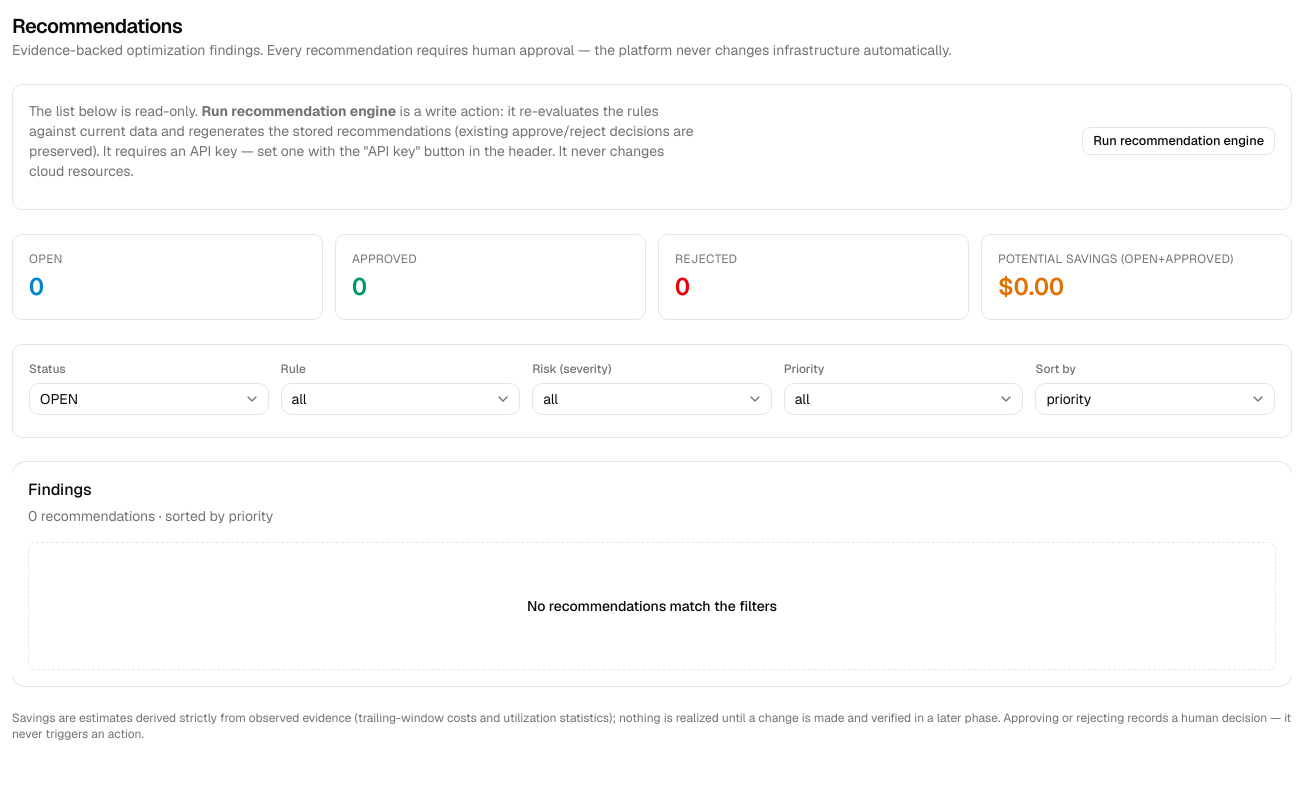
Test: Recommendations page › runs the engine once after the button is clicked and shows the result
Check: the text "No recommendations match the filters" is shown, box x1=527 y1=596 x2=777 y2=616
Click the button "Run recommendation engine" at (1179, 141), box x1=1082 y1=127 x2=1275 y2=155
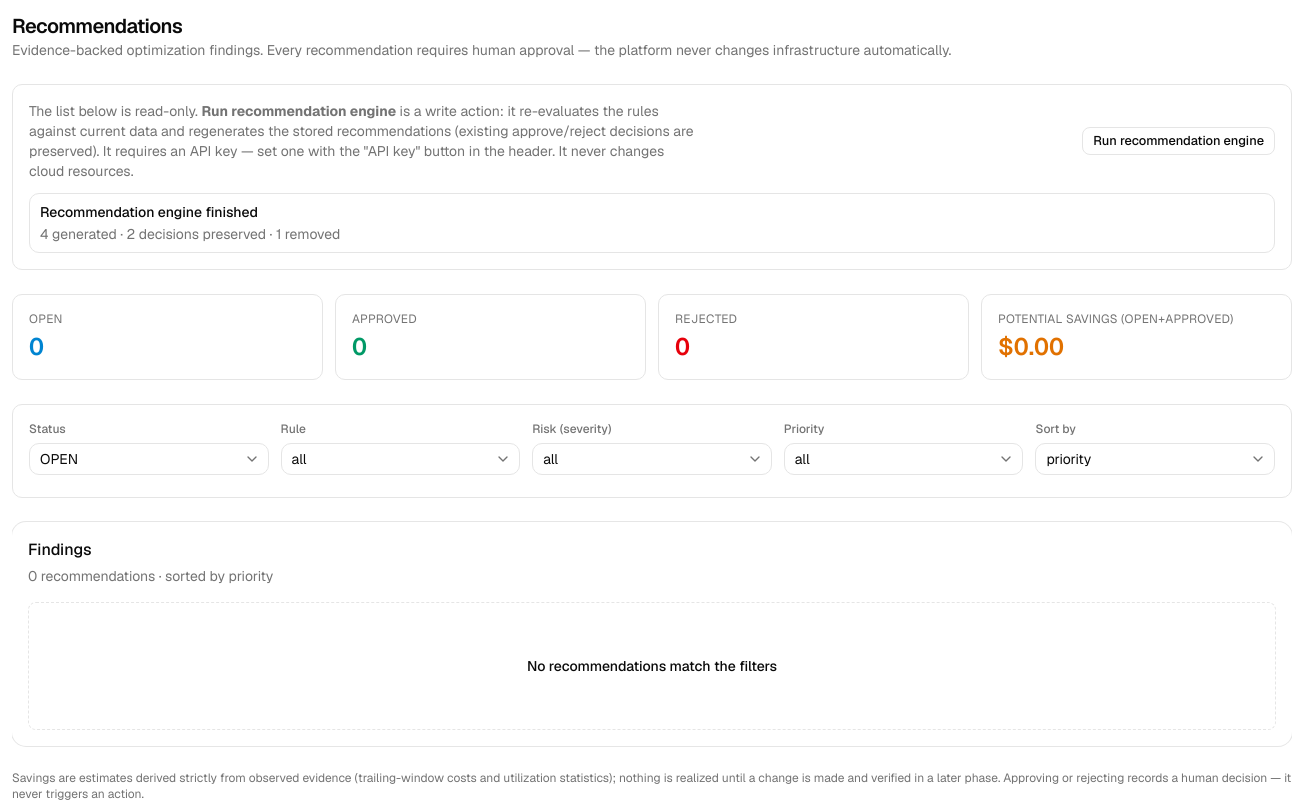
Check: the text "Recommendation engine finished" is shown, box x1=40 y1=203 x2=258 y2=221
Check: the text "4 generated · 2 decisions preserved · 1 removed" is shown, box x1=40 y1=225 x2=340 y2=243
